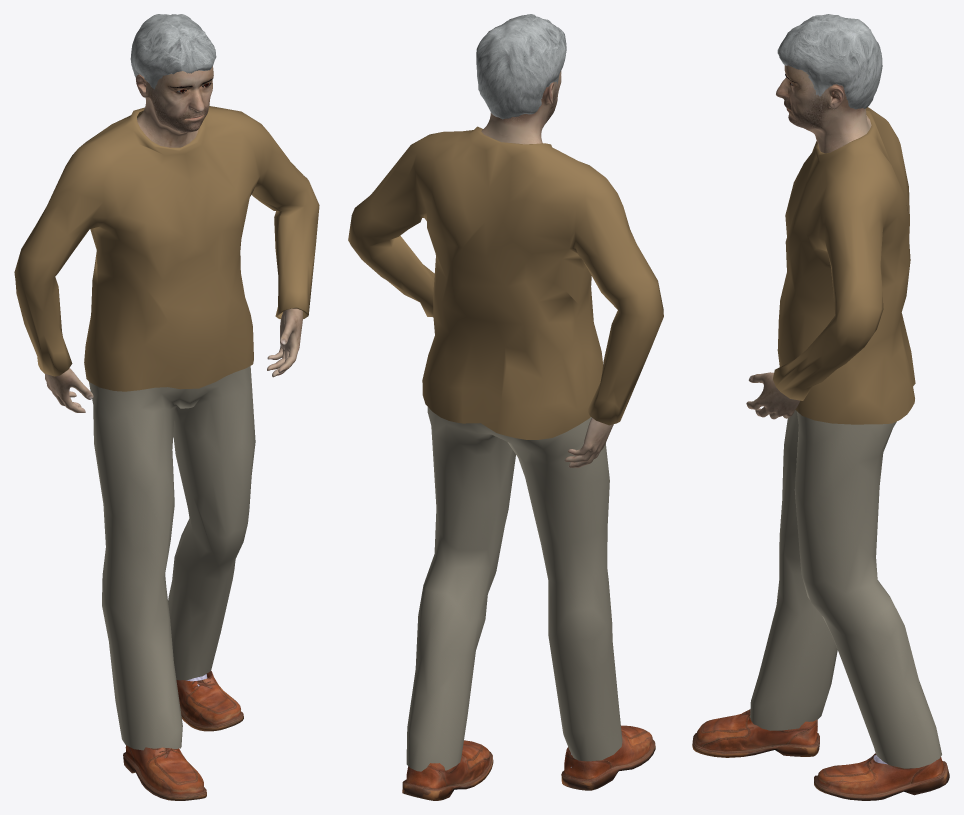
File: casey-v415.glb
3 renders of one model, left to right at view 1: azimuth 30°, elevation 25°; view 2: azimuth 150°, elevation 25°; view 3: azimuth 270°, elevation 25°, orthographic. The views are drawn at different scales.
Visible parts, largest first — view 1: male_casualsuit02, Casey | anatomical body, shoes01, short02; view 2: male_casualsuit02, short02, shoes01, Casey | anatomical body; view 3: male_casualsuit02, shoes01, short02, Casey | anatomical body.
Part boxes in pixels (bbox=[...]): male_casualsuit02: bbox=[14, 106, 319, 750]; Casey | anatomical body: bbox=[45, 66, 302, 412]; shoes01: bbox=[123, 670, 243, 800]; short02: bbox=[130, 14, 216, 89]; male_casualsuit02: bbox=[348, 126, 663, 771]; short02: bbox=[476, 14, 566, 119]; shoes01: bbox=[402, 725, 655, 800]; Casey | anatomical body: bbox=[433, 71, 613, 467]; male_casualsuit02: bbox=[750, 107, 941, 768]; shoes01: bbox=[692, 709, 949, 800]; short02: bbox=[777, 14, 882, 109]; Casey | anatomical body: bbox=[746, 65, 871, 419].
Bounding box in the file's own units: 0.7943 × 1.87 × 0.5792.
9 materials, 9 textured.
